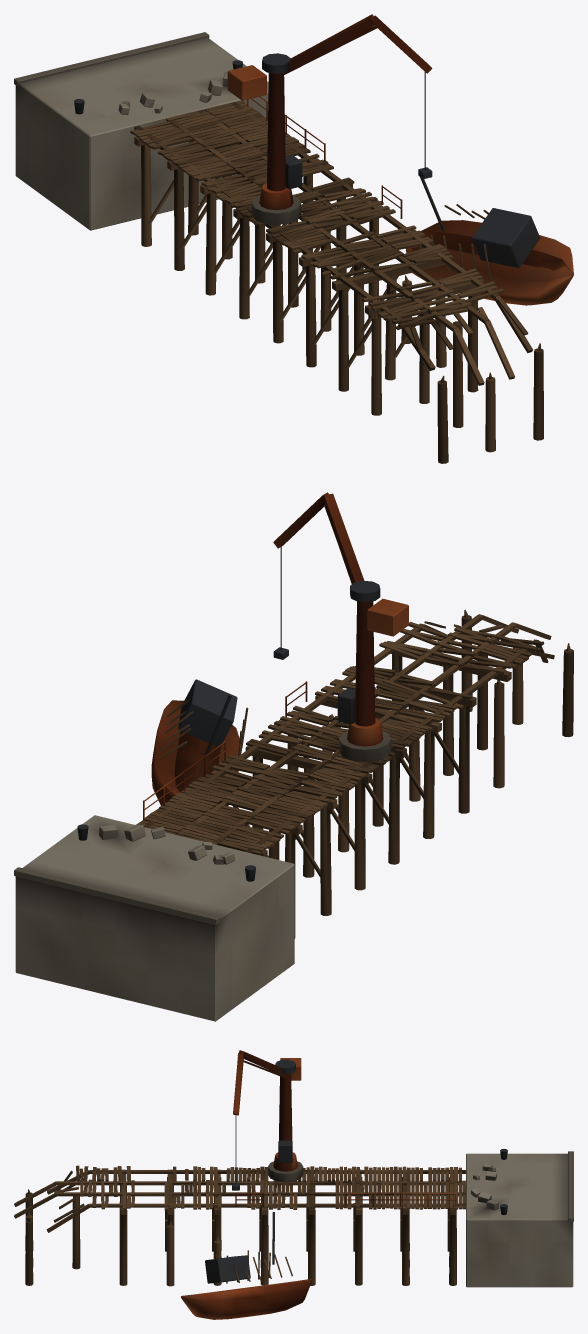
The model's file is wharf_ruin.glb.
3 views of the same model, one above another, from view 1: azimuth 30°, elevation 25°; view 2: azimuth 150°, elevation 25°; view 3: azimuth 270°, elevation 25° (orthographic). The views are drawn at different scales.
Visible parts, largest first — view 1: wood, concrete, rust, metal_dark, concrete_dark; view 2: wood, concrete, rust, metal_dark, concrete_dark; view 3: wood, concrete, rust, metal_dark, concrete_dark.
Boxes of the visible parts, bbox=[...] form: wood: bbox=[130, 100, 543, 463]; concrete: bbox=[15, 37, 268, 230]; rust: bbox=[227, 14, 573, 305]; metal_dark: bbox=[74, 53, 540, 268]; concrete_dark: bbox=[14, 32, 300, 224]; wood: bbox=[136, 609, 573, 938]; concrete: bbox=[15, 815, 294, 1021]; rust: bbox=[143, 492, 408, 820]; metal_dark: bbox=[77, 546, 380, 881]; concrete_dark: bbox=[14, 731, 391, 924]; wood: bbox=[14, 1165, 465, 1286]; concrete: bbox=[466, 1153, 573, 1287]; rust: bbox=[181, 1050, 456, 1319]; metal_dark: bbox=[205, 1059, 507, 1283]; concrete_dark: bbox=[268, 1151, 573, 1221].
Size of what is drawn, in the model's own units: 19.03 by 19.16 by 42.82.
